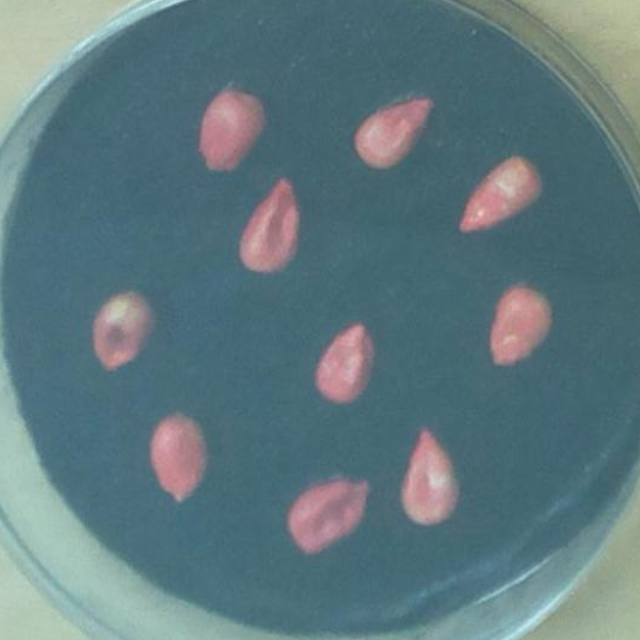Zea mays: (279, 469, 381, 563), (449, 149, 551, 239), (230, 168, 310, 282), (346, 87, 443, 179), (393, 420, 469, 535), (192, 82, 275, 182), (141, 407, 215, 513), (480, 278, 562, 373), (306, 314, 384, 413), (83, 285, 164, 379)
